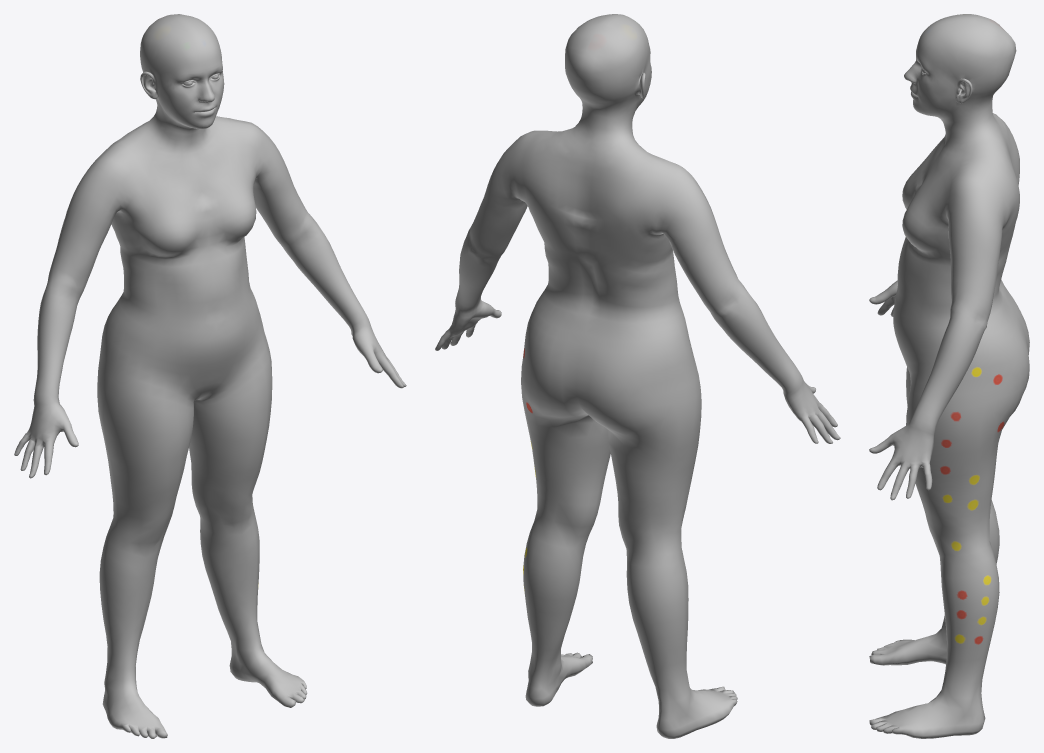
The model's file is 1135039-crossleg-red+yellow.gltf.
3 renders of one model, left to right at view 1: azimuth 30°, elevation 25°; view 2: azimuth 150°, elevation 25°; view 3: azimuth 270°, elevation 25°, orthographic. The views are drawn at different scales.
Visible parts, largest first — view 1: Female 60in 130lbs; view 2: Female 60in 130lbs; view 3: Female 60in 130lbs.
Part boxes in pixels (bbox=[...]): Female 60in 130lbs: bbox=[14, 14, 406, 738]; Female 60in 130lbs: bbox=[435, 14, 840, 738]; Female 60in 130lbs: bbox=[869, 14, 1029, 738].
Bounding box in the file's own units: 2.68 × 4.58 × 0.9768.
Materials: 1 (1 with a texture image).
